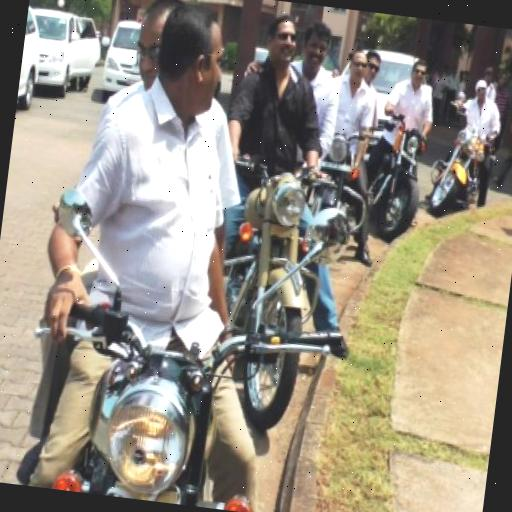no helmet: (58, 0, 266, 505), (192, 1, 350, 418), (313, 46, 384, 256), (364, 44, 441, 233), (427, 51, 512, 219)
